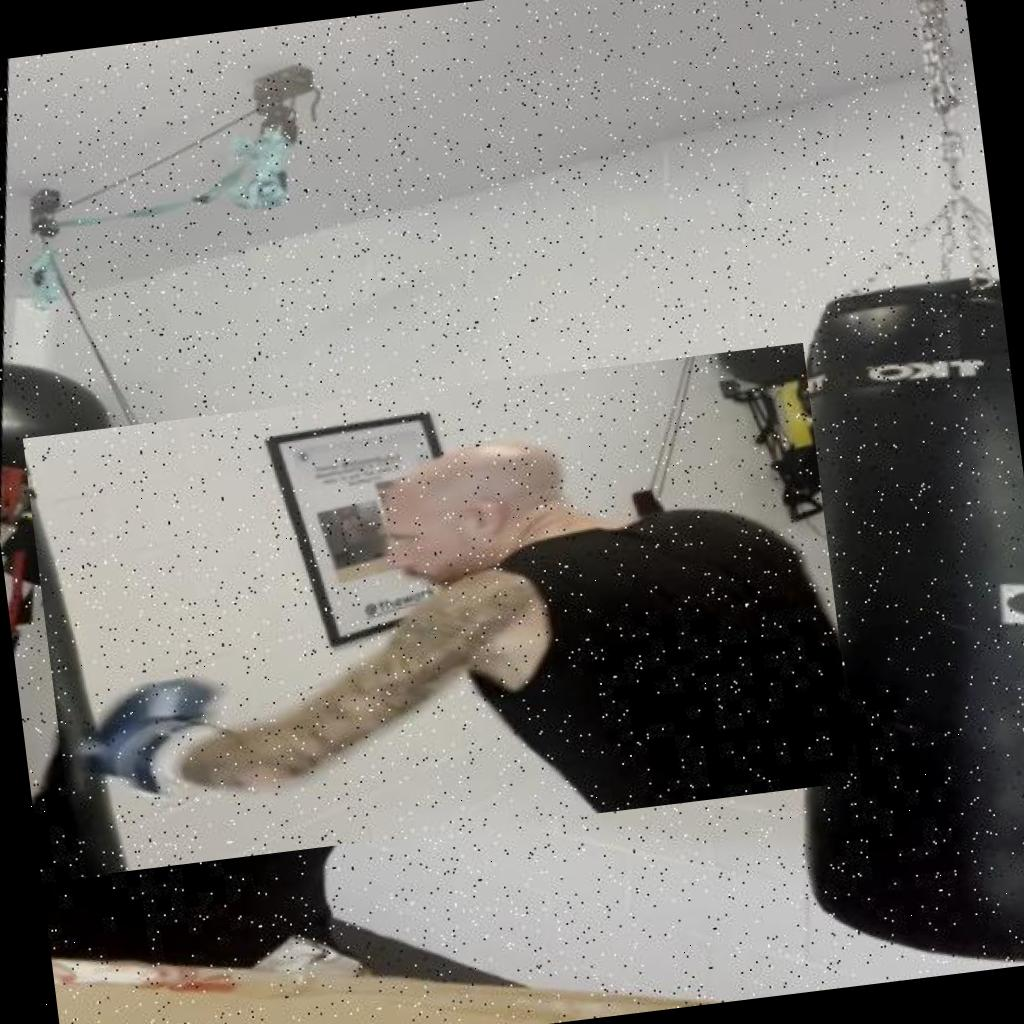bag: (691, 255, 1024, 995)
hook: (22, 342, 856, 877)
